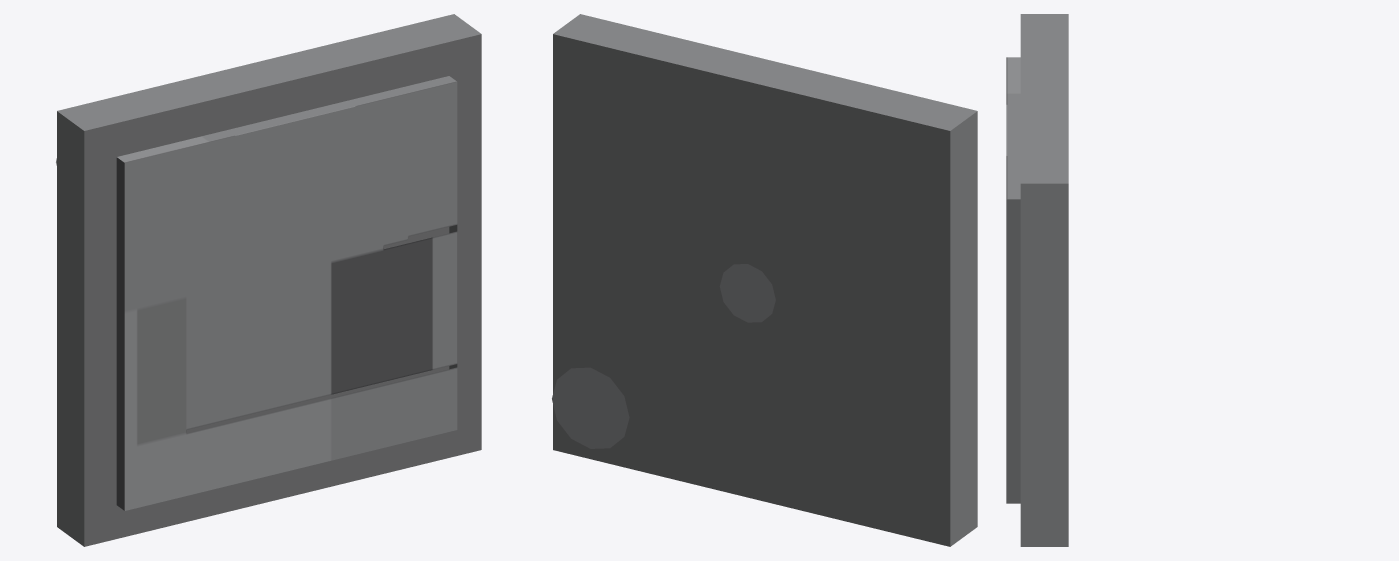
3 views of the same model, side by side, from view 1: azimuth 30°, elevation 25°; view 2: azimuth 150°, elevation 25°; view 3: azimuth 270°, elevation 25° (orthographic). The views are drawn at different scales.
Size of the model in its own units: 0.9936 by 0.9936 by 0.9369.
